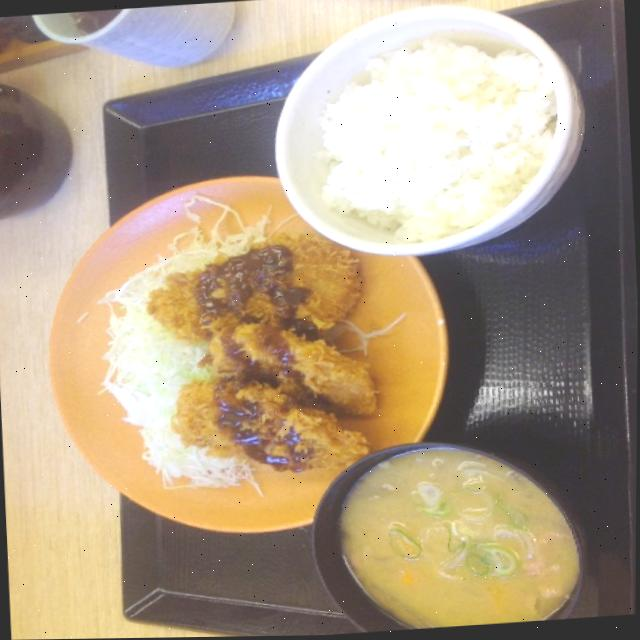米饭主食: (265, 0, 597, 266)
